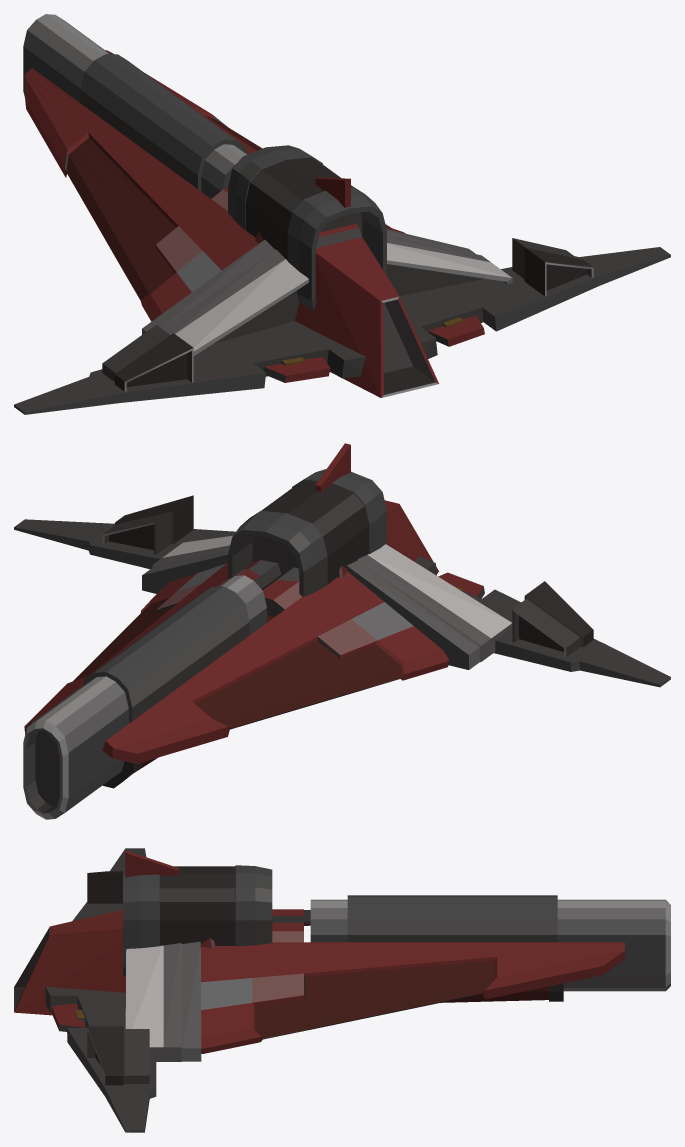
The model's file is omen.glb.
The picture shows the model from 3 angles, top to bottom: view 1: azimuth 30°, elevation 25°; view 2: azimuth 150°, elevation 25°; view 3: azimuth 270°, elevation 25°; orthographic projection. The views are drawn at different scales.
Size of the model in its own units: 6.39 by 1.57 by 6.29.
